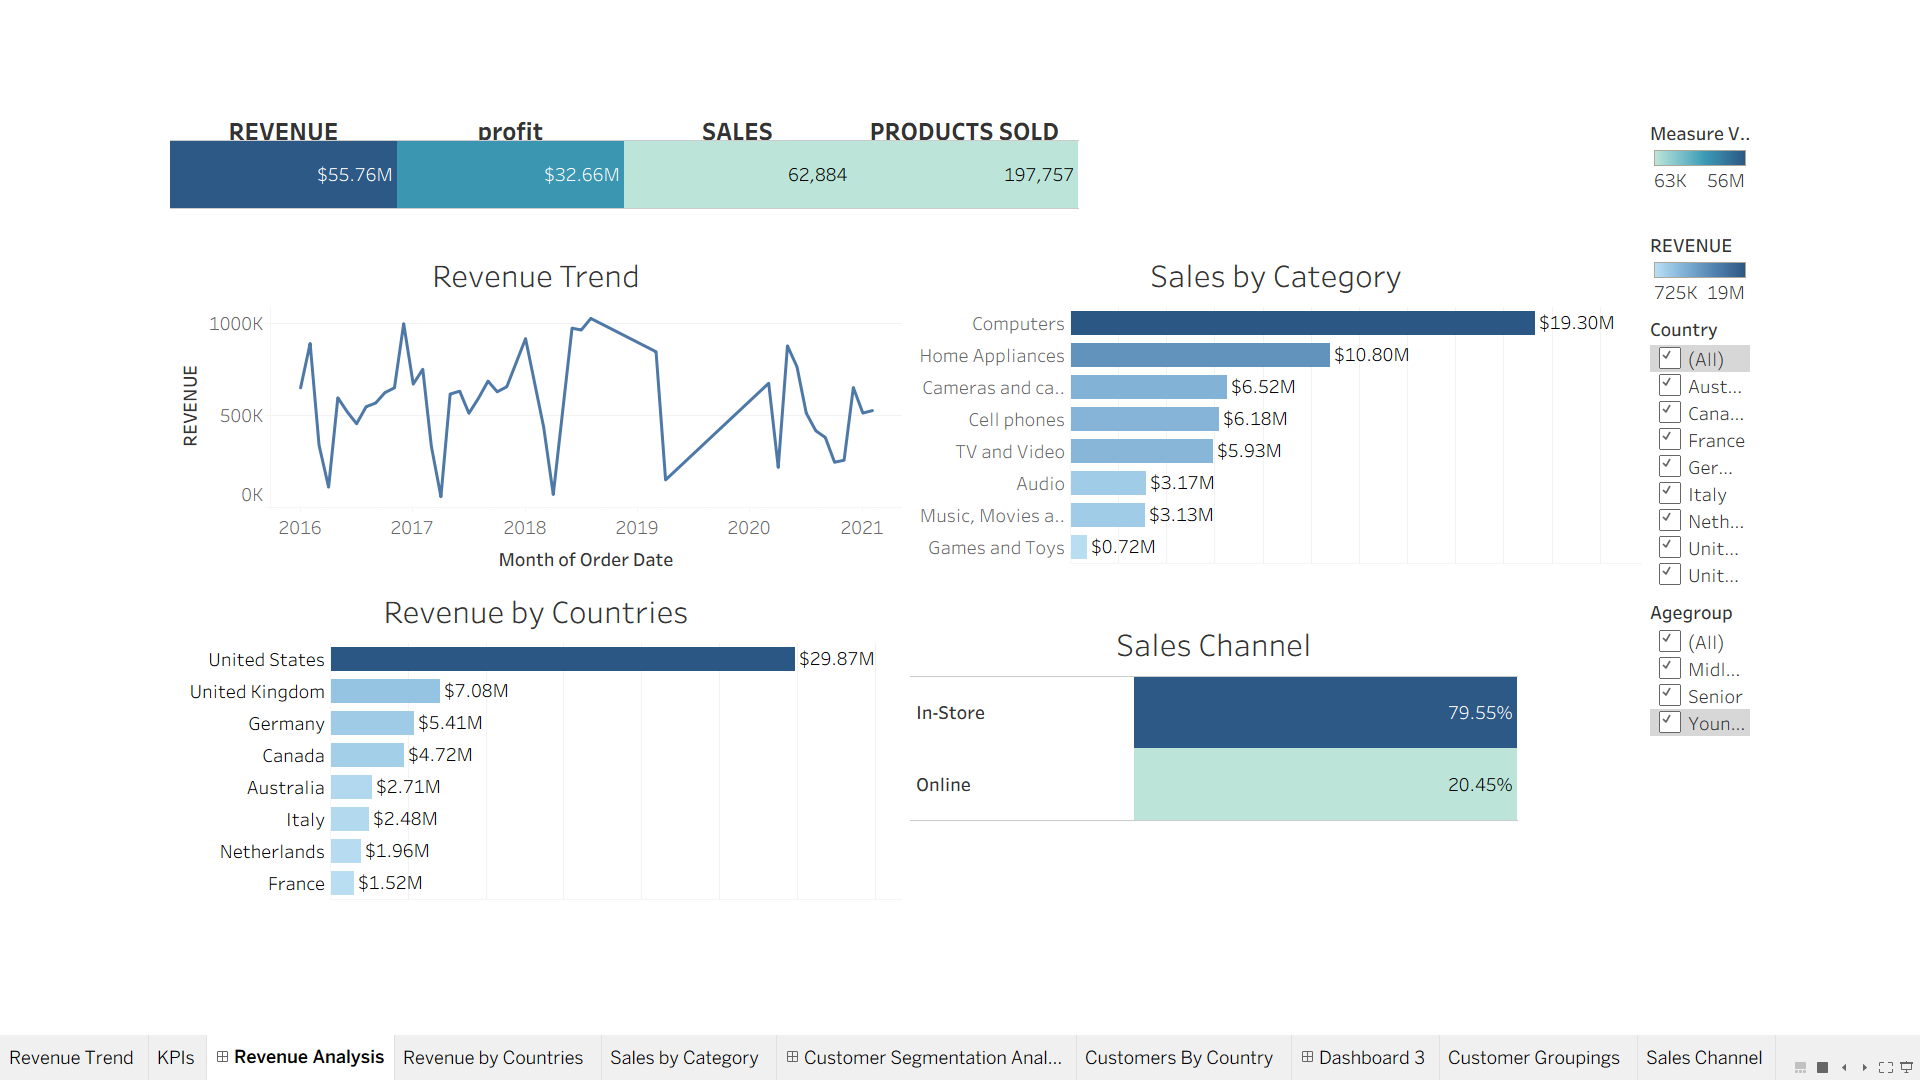

Layout of this report page (visuals, bound fields, positions):
{"tool":"tableau","page":{"name":"Revenue Analysis","canvas":[1604,818],"ordinal":1},"visuals":[{"type":"worksheet","title":"KPIs","mark":"Square","box":[8,8,1454,130]},{"type":"legend","title":"KPIs","param":"[federated.0ge9wmj05uecb918uvem30nntbdm].[Multiple Values]","box":[1462,8,134,112]},{"type":"legend","title":"Sales by Category","param":"[federated.0ge9wmj05uecb918uvem30nntbdm].[sum:Calculation_0455202526003200:qk]","box":[1462,120,134,84]},{"type":"worksheet","title":"Revenue Trend","mark":"Automatic","rows":["Calculation_0455202526003200"],"cols":["Order Date"],"box":[8,138,726.9,336]},{"type":"worksheet","title":"Sales by Category","mark":"Automatic","rows":["Category"],"cols":["Calculation_0455202526003200"],"box":[734.9,138,727.1,369]},{"type":"filter","title":"Revenue Trend","param":"[federated.0ge9wmj05uecb918uvem30nntbdm].[none:Country:nk]","box":[1462,204,134,283]},{"type":"worksheet","title":"Revenue by Countries","mark":"Bar","rows":["Country"],"cols":["Calculation_0455202526003200"],"box":[8,474,726.9,336]},{"type":"filter","title":"Revenue Trend","param":"[federated.0ge9wmj05uecb918uvem30nntbdm].[none:Agegroup:nk]","box":[1462,487,134,148]},{"type":"worksheet","title":"Sales Channel","mark":"Square","rows":["Calculation_0455202921062409"],"box":[734.9,507,727.1,303]}]}

Visuals, with their boxes on the page's 1604x818 design canvas (x1, y1, x2, y2). These are canvas units, not pixel positions in the 1920x1080 screenshot, which may show the page scaled, cropped or inside an application window:
"KPIs" worksheet (Square marks): box(8, 8, 1462, 138)
"KPIs" legend: box(1462, 8, 1596, 120)
"Sales by Category" legend: box(1462, 120, 1596, 204)
"Revenue Trend" worksheet: box(8, 138, 735, 474)
"Sales by Category" worksheet: box(735, 138, 1462, 507)
"Revenue Trend" filter: box(1462, 204, 1596, 487)
"Revenue by Countries" worksheet (Bar marks): box(8, 474, 735, 810)
"Revenue Trend" filter: box(1462, 487, 1596, 635)
"Sales Channel" worksheet (Square marks): box(735, 507, 1462, 810)
